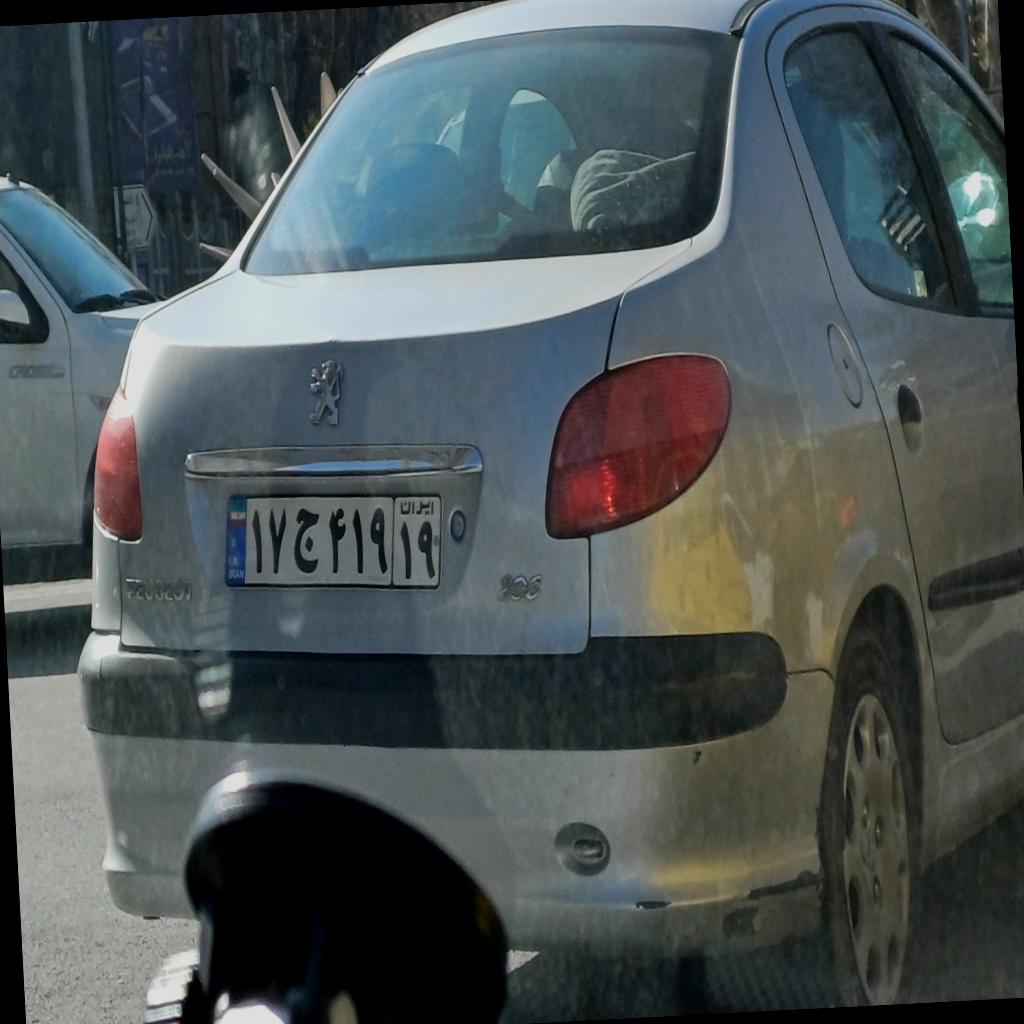Plates: (220, 484, 447, 600)
